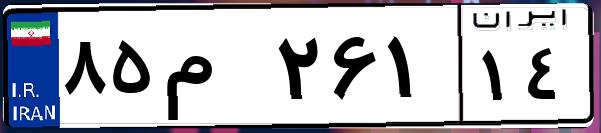1: (385, 28, 445, 110), (475, 38, 525, 113)
2: (270, 28, 330, 110)
4: (525, 38, 570, 115)
5: (110, 28, 158, 98)
6: (330, 28, 385, 110)
8: (57, 26, 110, 100)
م: (158, 20, 270, 120)
